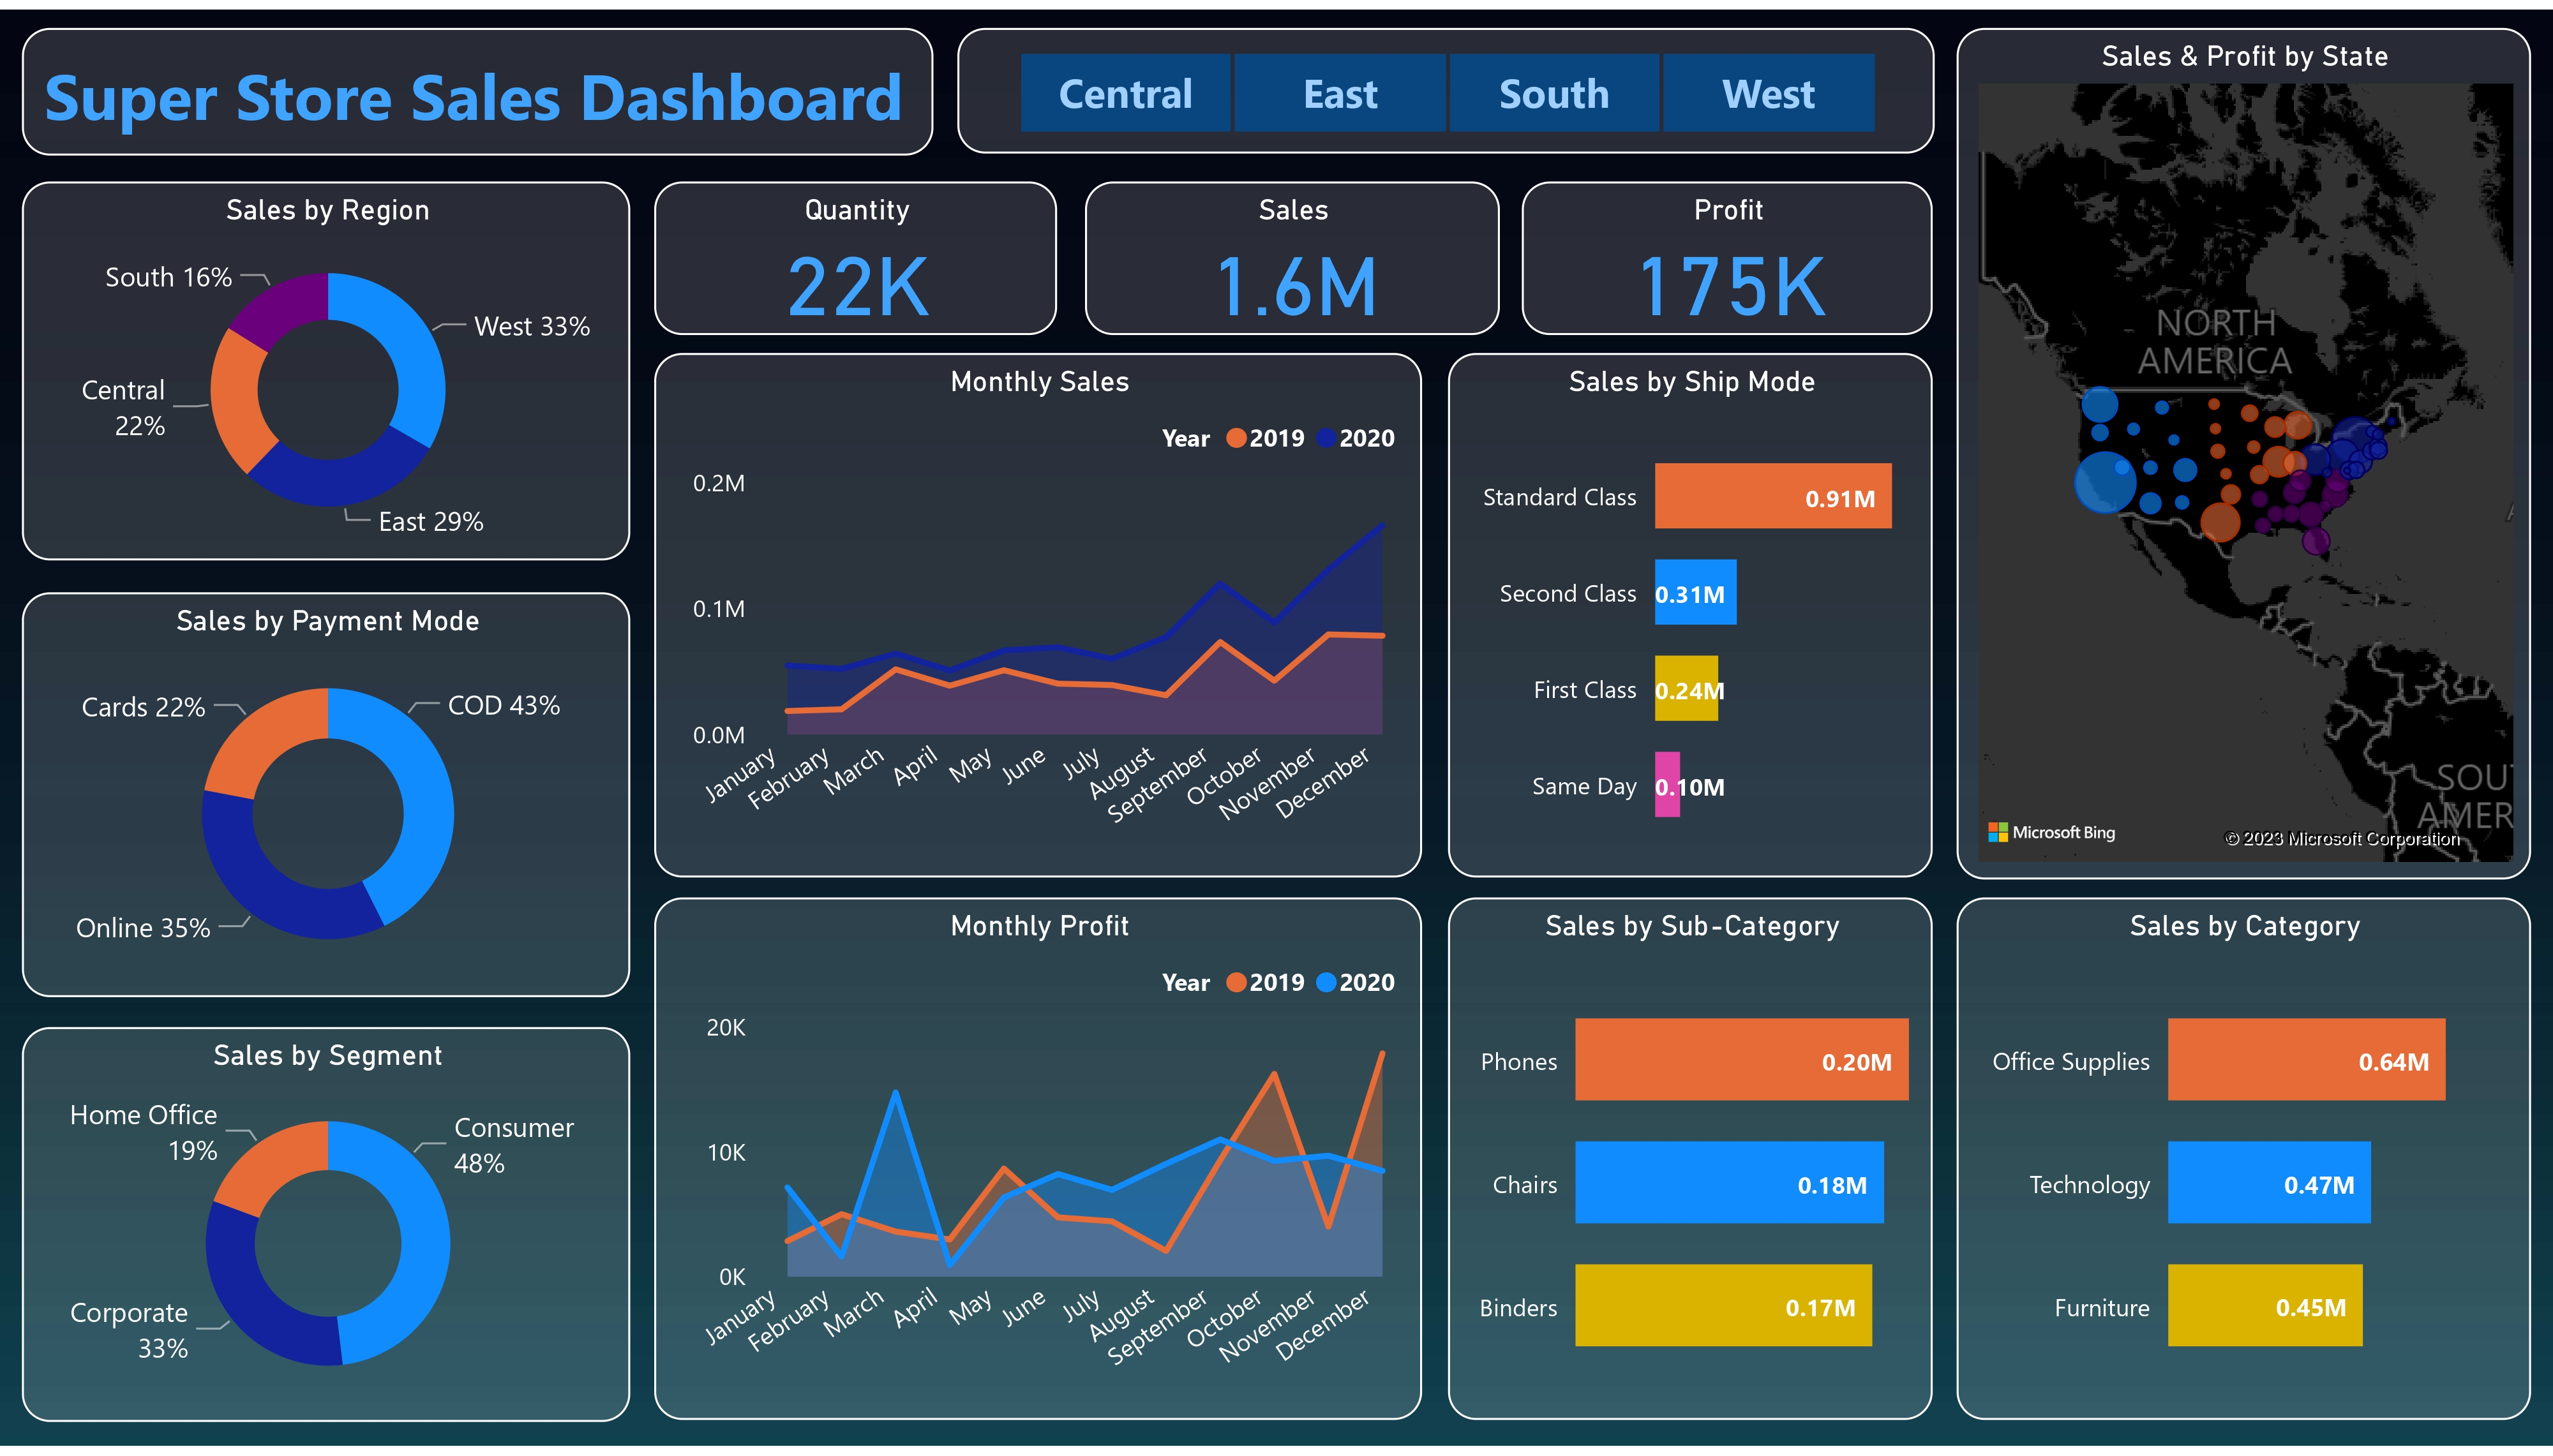

Layout of this report page (visuals, bound fields, positions):
{"tool":"powerbi","page":{"name":"Super Store Sales Dashboard","canvas":[1280,720],"ordinal":0},"visuals":[{"type":"barChart","title":"Sales by Category","fields":{"Category":["SuperStore_Sales_Dataset.Category"],"Y":["Sum(SuperStore_Sales_Dataset.Sales)"]},"box":[980.5,445.2,287.7,261.9],"z":0},{"type":"barChart","title":"Sales by Sub-Category","fields":{"Category":["SuperStore_Sales_Dataset.Sub-Category"],"Y":["Sum(SuperStore_Sales_Dataset.Sales)"]},"box":[725.7,445.2,243.3,261.9],"z":1000},{"type":"barChart","title":"Sales by Ship Mode","fields":{"Y":["Sum(SuperStore_Sales_Dataset.Sales)"],"Category":["SuperStore_Sales_Dataset.Ship Mode"]},"box":[725.7,171.8,243.3,263.4],"z":2000},{"type":"areaChart","title":"Monthly Sales","fields":{"Y":["Sum(SuperStore_Sales_Dataset.Sales)"],"Category":["SuperStore_Sales_Dataset.Order Date.Variation.Date Hierarchy.Month"],"Series":["SuperStore_Sales_Dataset.Order Date.Variation.Date Hierarchy.Year"]},"box":[327.8,171.8,385,263.4],"z":3000},{"type":"areaChart","title":"Monthly Profit","fields":{"Category":["SuperStore_Sales_Dataset.Order Date.Variation.Date Hierarchy.Month"],"Series":["SuperStore_Sales_Dataset.Order Date.Variation.Date Hierarchy.Year"],"Y":["Sum(SuperStore_Sales_Dataset.Profit)"]},"box":[327.8,445.2,385,261.9],"z":4000},{"type":"map","title":"Sales & Profit by State","fields":{"Category":["SuperStore_Sales_Dataset.State"],"Size":["Sum(SuperStore_Sales_Dataset.Sales)"],"Series":["SuperStore_Sales_Dataset.Region"]},"box":[980.5,8.6,287.7,426.6],"z":5000},{"type":"donutChart","title":"Sales by Segment","fields":{"Y":["Sum(SuperStore_Sales_Dataset.Sales)"],"Category":["SuperStore_Sales_Dataset.Segment"]},"box":[11.5,509.6,304.9,197.5],"z":6000},{"type":"donutChart","title":"Sales by Region","fields":{"Y":["Sum(SuperStore_Sales_Dataset.Sales)"],"Category":["SuperStore_Sales_Dataset.Region"]},"box":[11.5,85.9,304.9,190.4],"z":7000},{"type":"donutChart","title":"Sales by Payment Mode","fields":{"Y":["Sum(SuperStore_Sales_Dataset.Sales)"],"Category":["SuperStore_Sales_Dataset.Payment Mode"]},"box":[11.5,292,304.9,203.3],"z":8000},{"type":"slicer","title":"Region","fields":{"Values":["SuperStore_Sales_Dataset.Region"]},"box":[479.5,8.6,489.5,63],"z":9000},{"type":"textbox","box":[11.5,8.6,456.6,64.4],"z":10000},{"type":"card","title":"Profit","fields":{"Values":["Sum(SuperStore_Sales_Dataset.Profit)"]},"box":[762.9,85.9,206.1,77.3],"z":11000},{"type":"card","title":"Sales","fields":{"Values":["Sum(SuperStore_Sales_Dataset.Sales)"]},"box":[543.9,85.9,207.6,77.3],"z":12000},{"type":"card","title":"Quantity","fields":{"Values":["Sum(SuperStore_Sales_Dataset.Quantity)"]},"box":[327.8,85.9,201.8,77.3],"z":13000}]}

Visuals, with their boxes in screenshot pixels (x1, y1, x2, y2), scaled from the page's 1280x720 canvas onto the 2553x1456 screenshot:
"Sales by Category" barChart: 1956,900,2529,1430
"Sales by Sub-Category" barChart: 1448,900,1933,1430
"Sales by Ship Mode" barChart: 1448,348,1933,880
"Monthly Sales" areaChart: 654,348,1422,880
"Monthly Profit" areaChart: 654,900,1422,1430
"Sales & Profit by State" map: 1956,17,2529,880
"Sales by Segment" donutChart: 23,1030,631,1430
"Sales by Region" donutChart: 23,174,631,559
"Sales by Payment Mode" donutChart: 23,590,631,1002
"Region" slicer: 956,17,1933,145
textbox: 23,17,934,147
"Profit" card: 1522,174,1933,330
"Sales" card: 1085,174,1499,330
"Quantity" card: 654,174,1056,330
